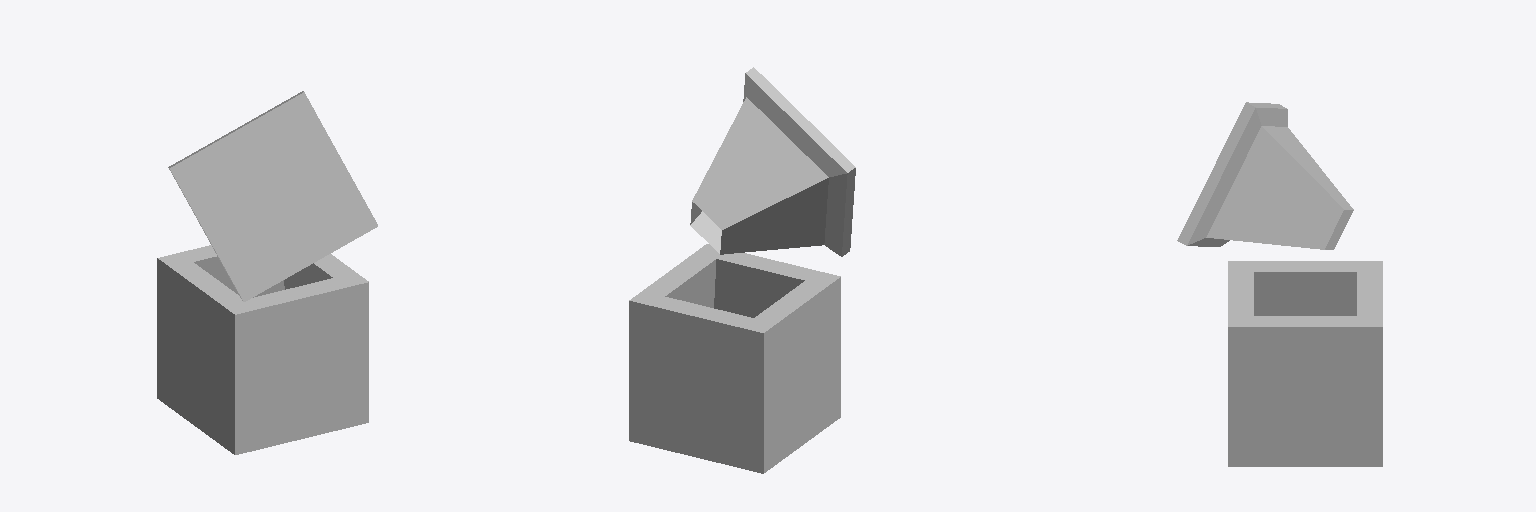
Rendered from AnimatedBox_000026.obj.
The picture shows the model from 3 angles: view 1: azimuth 30°, elevation 25°; view 2: azimuth 150°, elevation 25°; view 3: azimuth 270°, elevation 25°; orthographic projection.
Visible parts, largest first — view 1: Cube, Cube.001; view 2: Cube, Cube.001; view 3: Cube, Cube.001.
Part boxes in pixels (x1,y1,x2,y2): Cube: (157, 245, 368, 454); Cube.001: (168, 91, 377, 301); Cube: (629, 244, 840, 473); Cube.001: (690, 67, 855, 256); Cube: (1228, 261, 1382, 466); Cube.001: (1177, 102, 1353, 249).
Bounding box in the file's own units: 2.6 × 4.8 × 2.65.